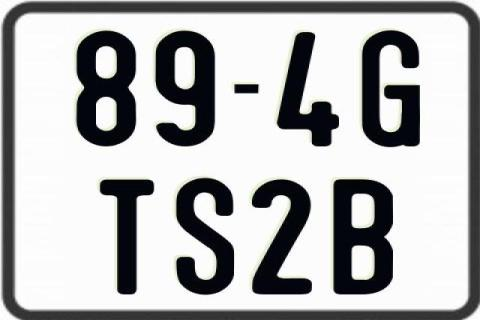0: (276, 32, 343, 150), (155, 28, 217, 149), (251, 178, 313, 294), (76, 31, 136, 150)
B: (334, 177, 396, 295)
G: (359, 30, 421, 146)
S: (174, 177, 234, 296)
T: (100, 178, 156, 294)
